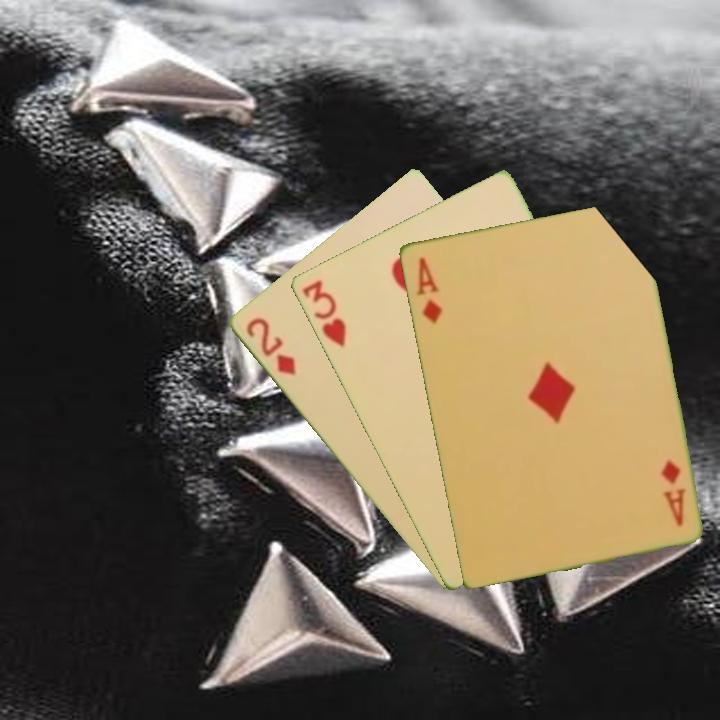2d: (242, 314, 299, 379)
3h: (298, 276, 349, 350)
Ad: (412, 253, 445, 326), (656, 455, 688, 529)
